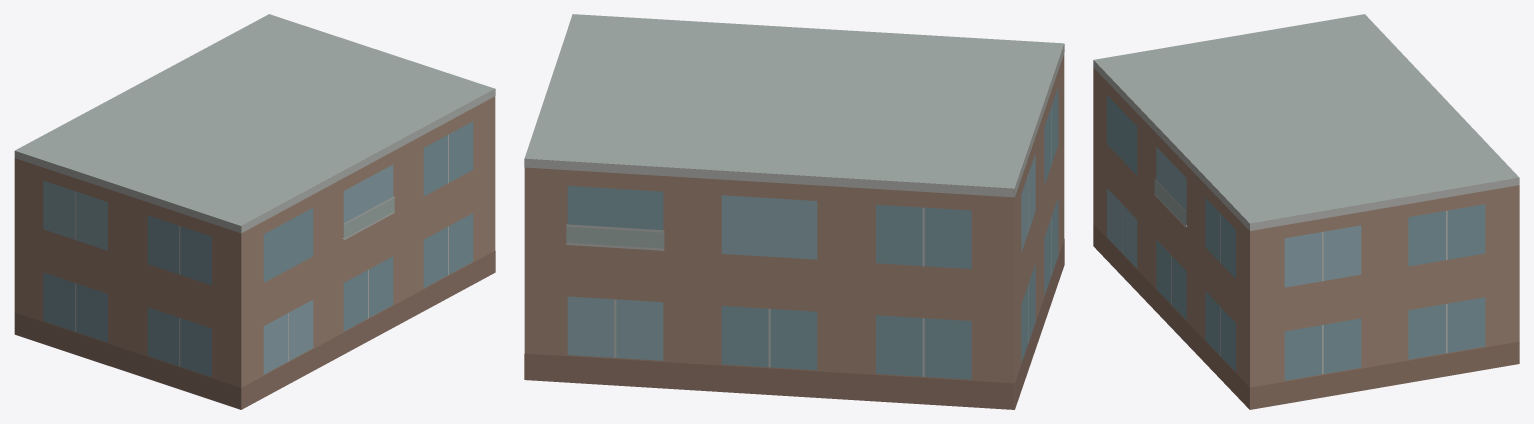
The model's file is survey-upis-32847140.glb.
3 renders of one model, left to right at view 1: azimuth 30°, elevation 25°; view 2: azimuth 150°, elevation 25°; view 3: azimuth 270°, elevation 25°, orthographic. The views are drawn at different scales.
Parts seen in each view (by area): view 1: survey-upis-32847140.tmp; view 2: survey-upis-32847140.tmp; view 3: survey-upis-32847140.tmp.
Part boxes in pixels (x1,y1,x2,y2): survey-upis-32847140.tmp: (14,14,495,409); survey-upis-32847140.tmp: (524,14,1064,409); survey-upis-32847140.tmp: (1093,14,1519,409).
Size of the model in its own units: 14.74 by 6.1 by 12.66.
